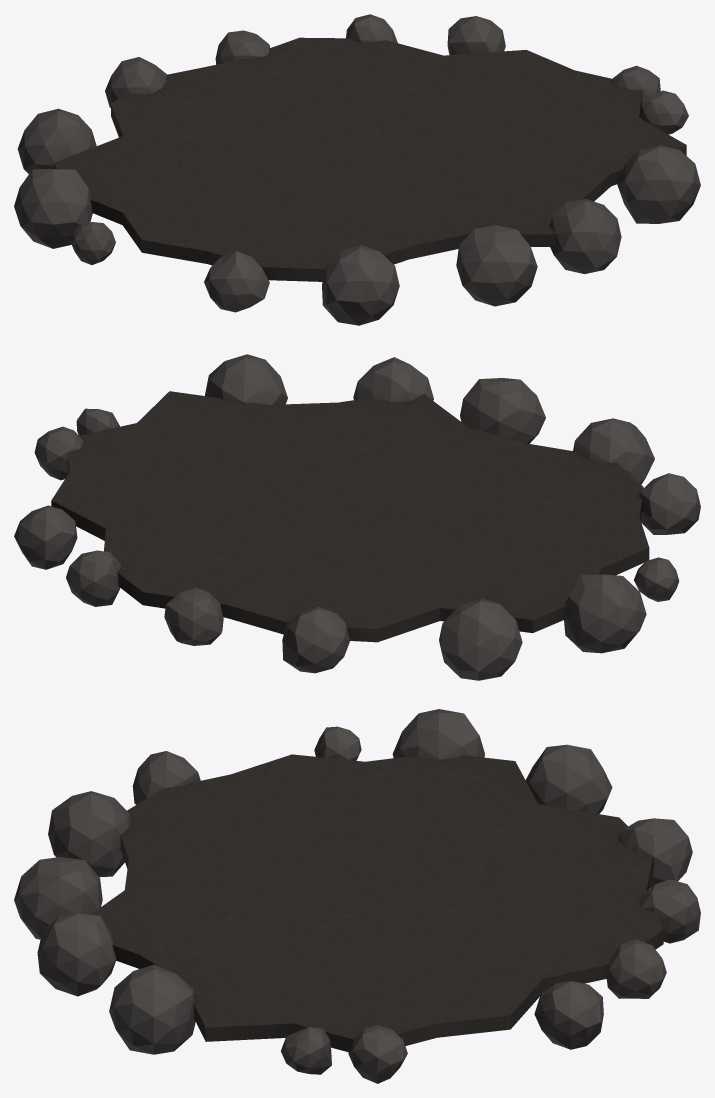
The model's file is prop_pothole.fbx.
3 views of the same model, one above another, from view 1: azimuth 30°, elevation 25°; view 2: azimuth 150°, elevation 25°; view 3: azimuth 270°, elevation 25° (orthographic). The views are drawn at different scales.
Parts seen in each view (by area): view 1: prop_pothole; view 2: prop_pothole; view 3: prop_pothole.
Boxes of the visible parts, x1,y1,x2,y2 form: prop_pothole: (14, 14, 700, 325); prop_pothole: (14, 354, 700, 680); prop_pothole: (14, 709, 700, 1083).
Bounding box in the file's own units: 0.9984 × 0.1213 × 0.8776.
